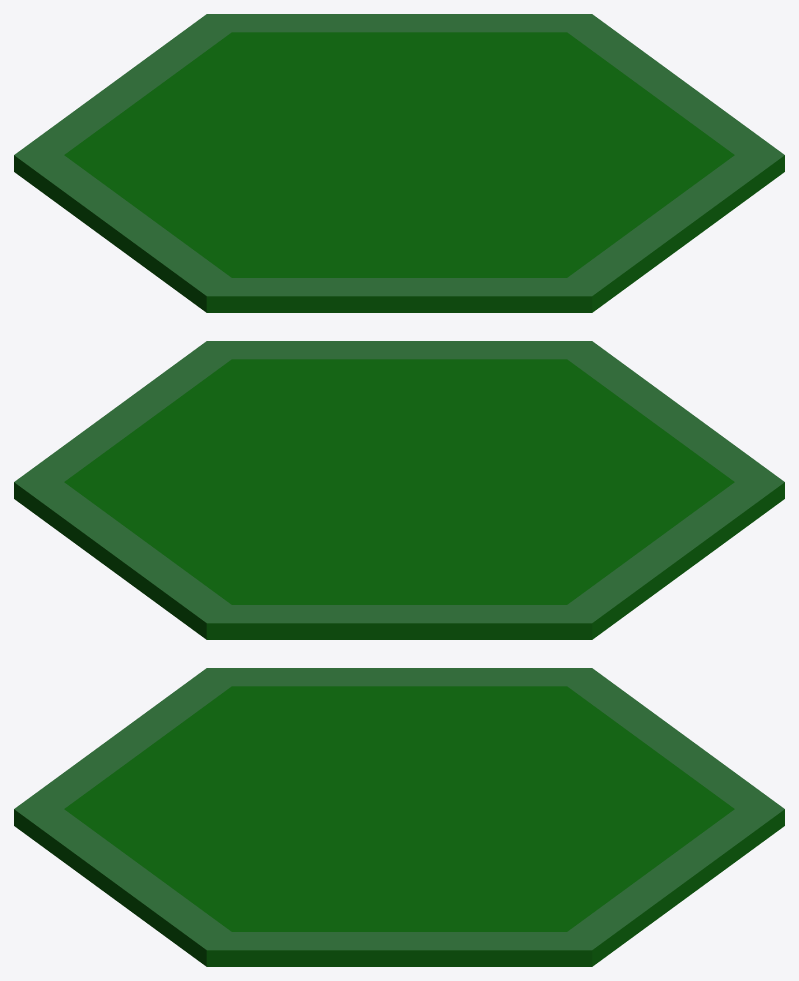
File: Hex_Blank.fbx
3 renders of one model, top to bottom at view 1: azimuth 30°, elevation 25°; view 2: azimuth 150°, elevation 25°; view 3: azimuth 270°, elevation 25°, orthographic.
Visible parts, largest first — view 1: Cylinder.001; view 2: Cylinder.001; view 3: Cylinder.001.
Boxes of the visible parts, box(x1,y1,x2,y2) form: Cylinder.001: box(14, 14, 784, 312); Cylinder.001: box(14, 341, 784, 639); Cylinder.001: box(14, 668, 784, 966).
Bounding box in the file's own units: 483 × 13.36 × 558.
